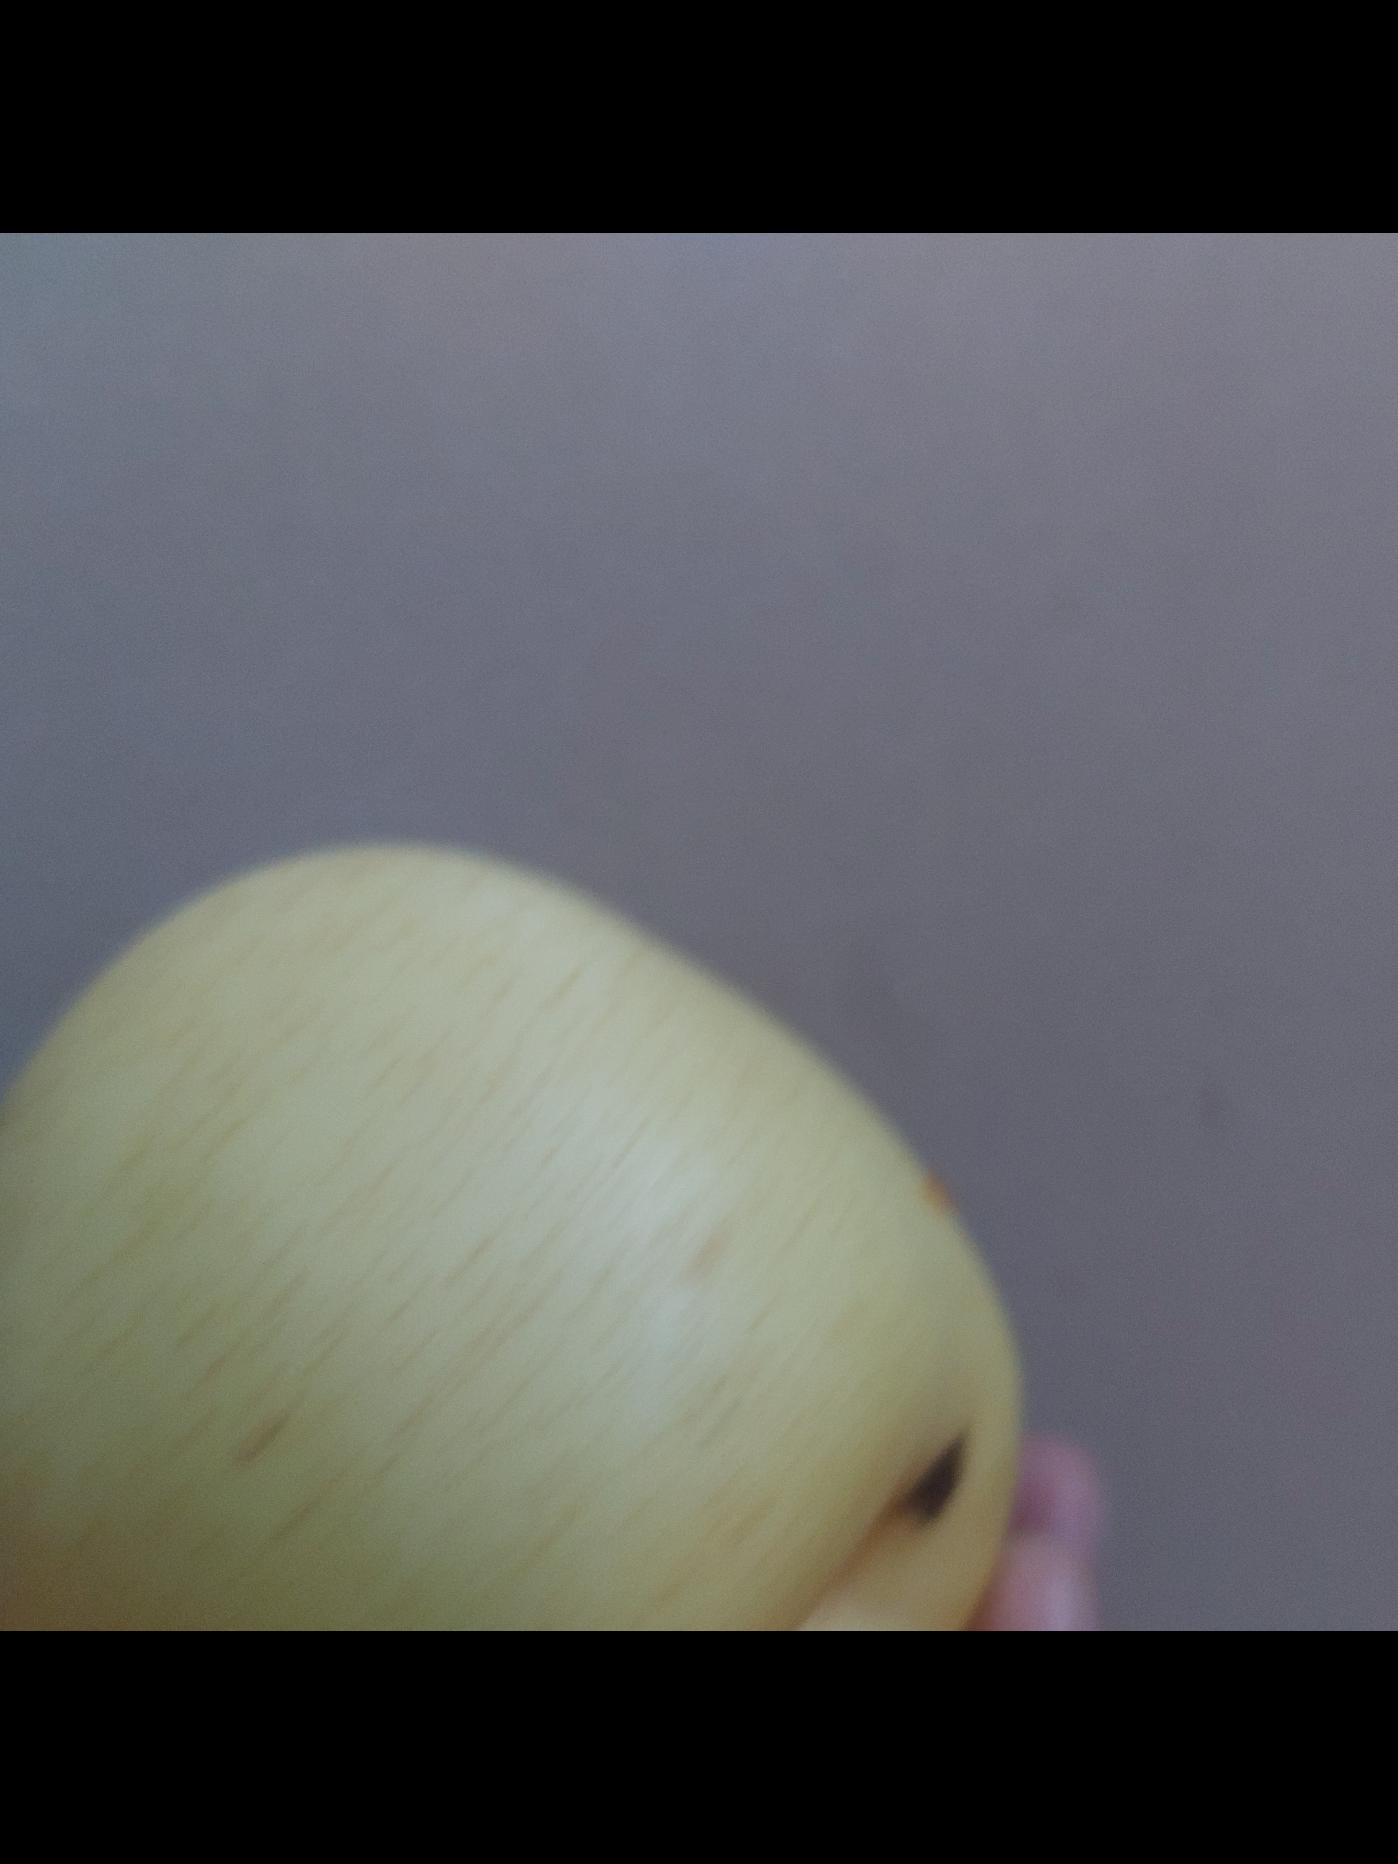Good Pear: (0, 825, 1023, 1631)
